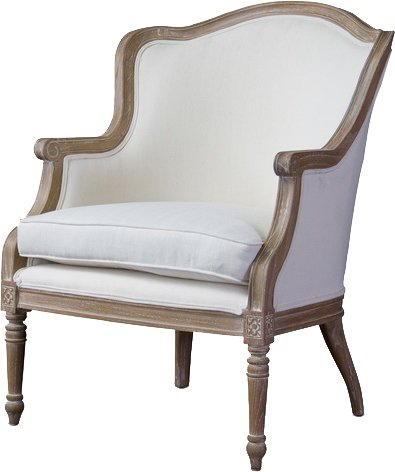chairs: (1, 1, 394, 469)
